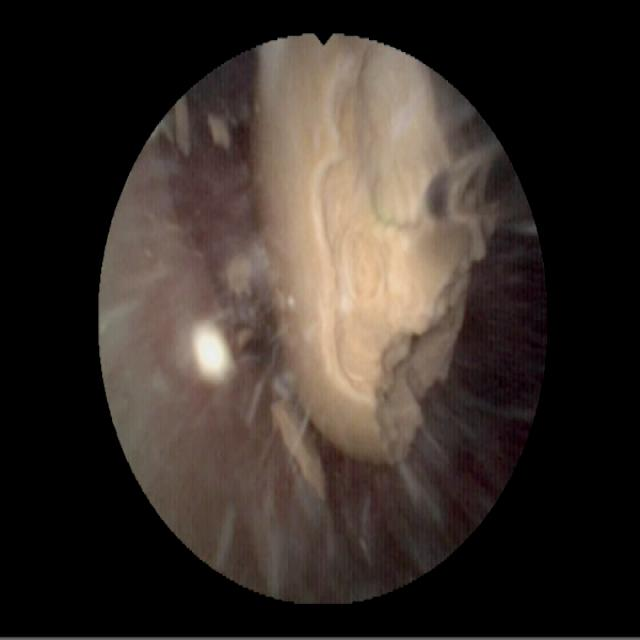stone: (248, 42, 493, 464), (272, 405, 329, 502), (194, 328, 231, 378), (225, 256, 252, 299), (208, 113, 230, 151)
